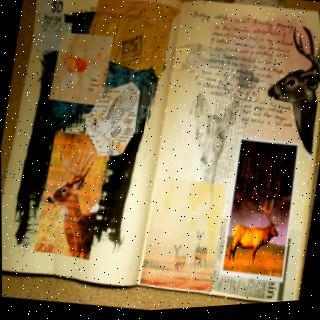book: (0, 0, 294, 318)
